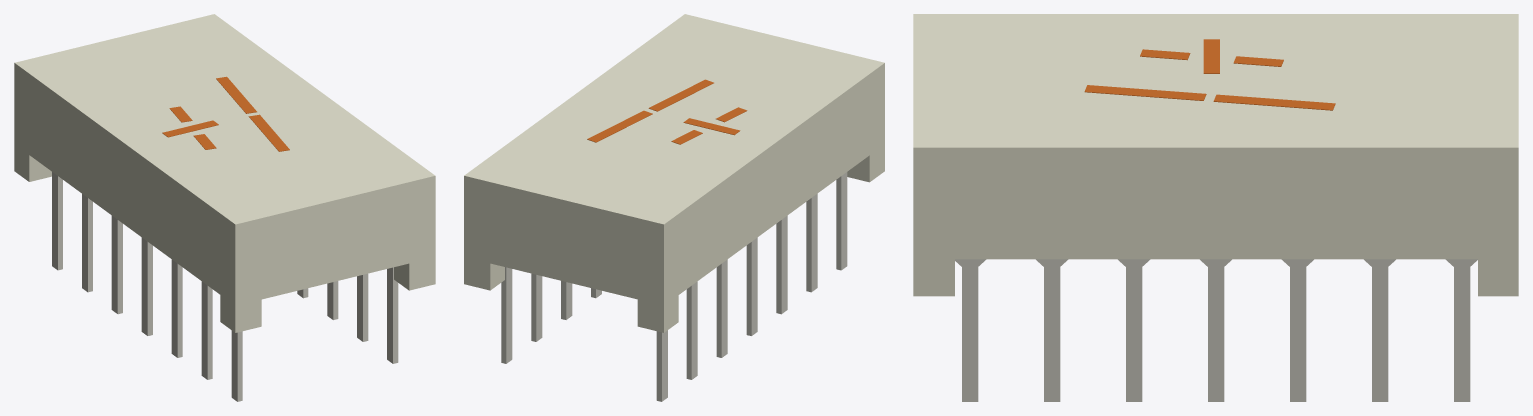
Rendered from kc-man3630a.glb.
3 renders of one model, left to right at view 1: azimuth 30°, elevation 25°; view 2: azimuth 150°, elevation 25°; view 3: azimuth 270°, elevation 25°, orthographic. The views are drawn at different scales.
Visible parts, largest first — view 1: 0.75_0.75_0.6666666666666666_0, 0.6666666666666666_0.6666666666666666_0.5833333333333334_0.8, 0.5833333333333334_0.16666666666666666_0_0; view 2: 0.75_0.75_0.6666666666666666_0, 0.6666666666666666_0.6666666666666666_0.5833333333333334_0.8, 0.5833333333333334_0.16666666666666666_0_0; view 3: 0.75_0.75_0.6666666666666666_0, 0.6666666666666666_0.6666666666666666_0.5833333333333334_0.8, 0.5833333333333334_0.16666666666666666_0_0.
Part boxes in pixels (x1,y1,x2,y2): 0.75_0.75_0.6666666666666666_0: (14,14,435,332); 0.6666666666666666_0.6666666666666666_0.5833333333333334_0.8: (52,172,398,401); 0.5833333333333334_0.16666666666666666_0_0: (162,76,289,151); 0.75_0.75_0.6666666666666666_0: (464,14,884,332); 0.6666666666666666_0.6666666666666666_0.5833333333333334_0.8: (501,172,847,401); 0.5833333333333334_0.16666666666666666_0_0: (587,79,747,144); 0.75_0.75_0.6666666666666666_0: (913,14,1518,296); 0.6666666666666666_0.6666666666666666_0.5833333333333334_0.8: (955,259,1477,401); 0.5833333333333334_0.16666666666666666_0_0: (1084,39,1335,110).
Bounding box in the file's own units: 0.98 × 0.916 × 1.88.
